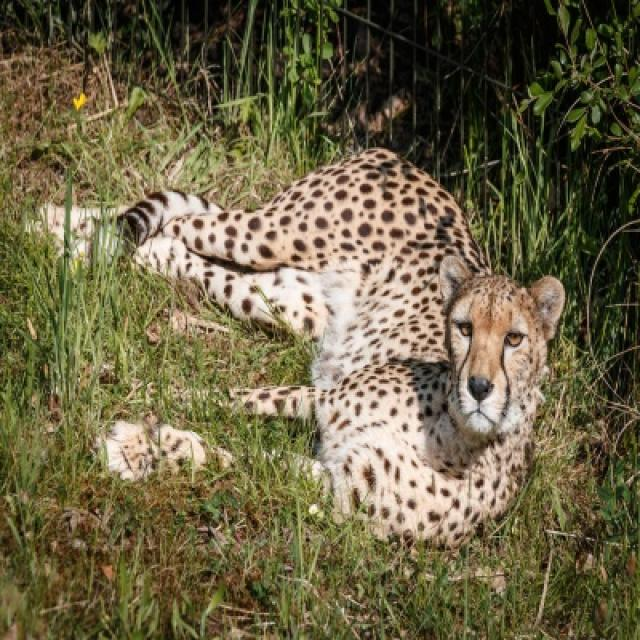Cheetah: (117, 147, 563, 541)
